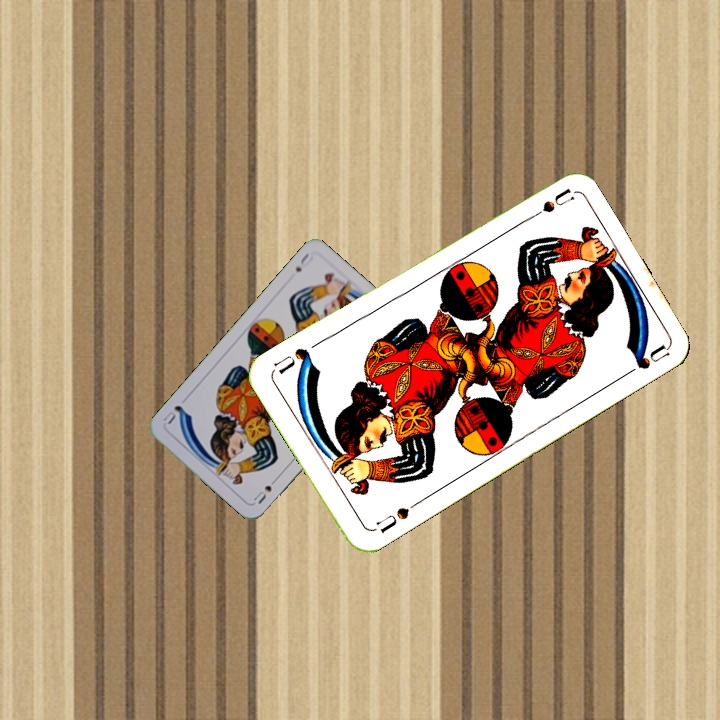SU: (519, 186, 575, 225), (372, 497, 422, 536), (249, 472, 281, 507), (291, 249, 316, 275)
